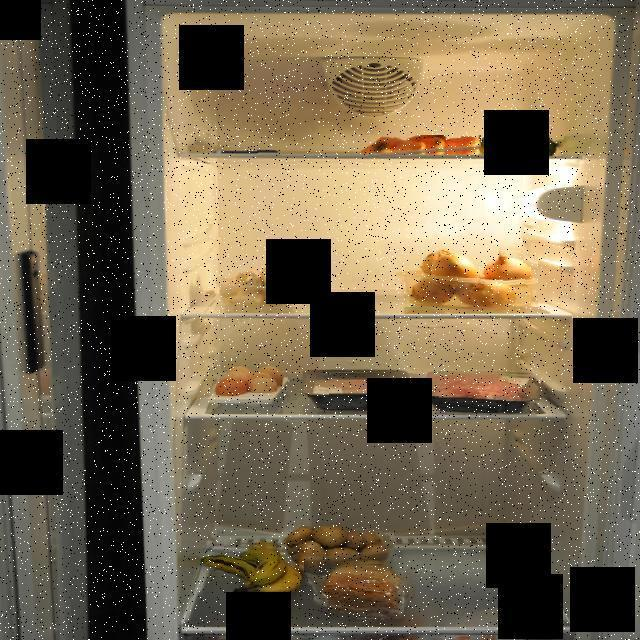banana: (206, 541, 304, 594)
bread: (319, 563, 404, 622)
carrot: (359, 135, 482, 158)
chicken_breast: (308, 373, 412, 397)
chocolate: (223, 147, 281, 157)
egg: (216, 365, 288, 404)
ground_beef: (424, 371, 542, 403)
lime: (482, 128, 564, 156)
mushrooms: (216, 255, 312, 308)
onion: (398, 245, 538, 308)
potato: (282, 526, 394, 568)
